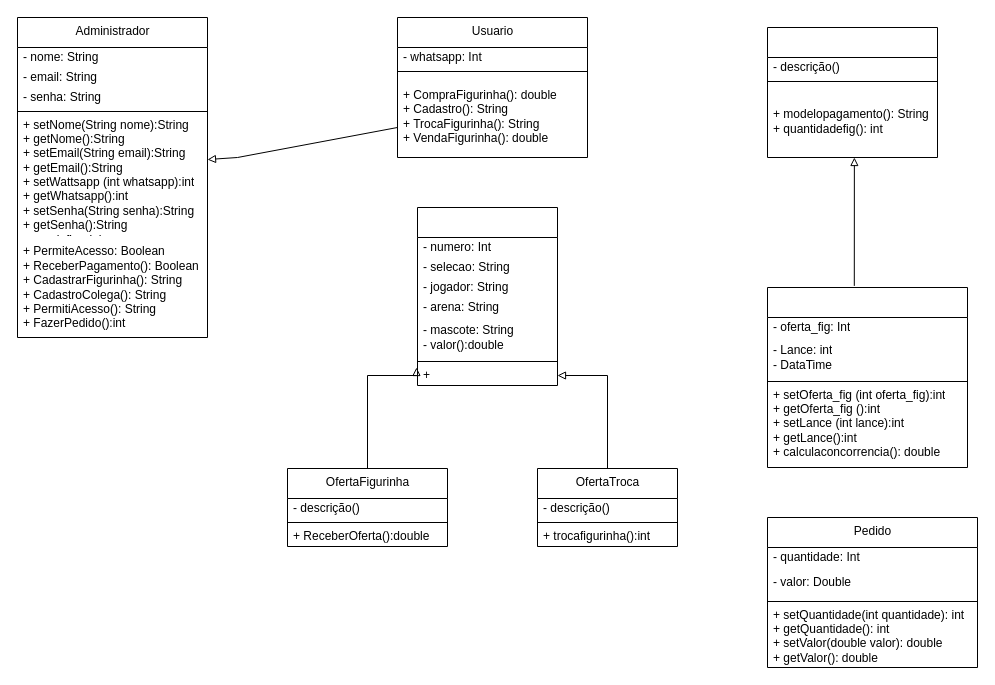
Image size: 995x685. Some labels were removed from this diagram. The box of each missing label's shape, as (x1, y1, x2, y2) in pixels:
Figurinha: (416, 206, 558, 386)
OfertaLeilão: (766, 286, 968, 468)
Venda (abstract): (766, 26, 938, 158)
